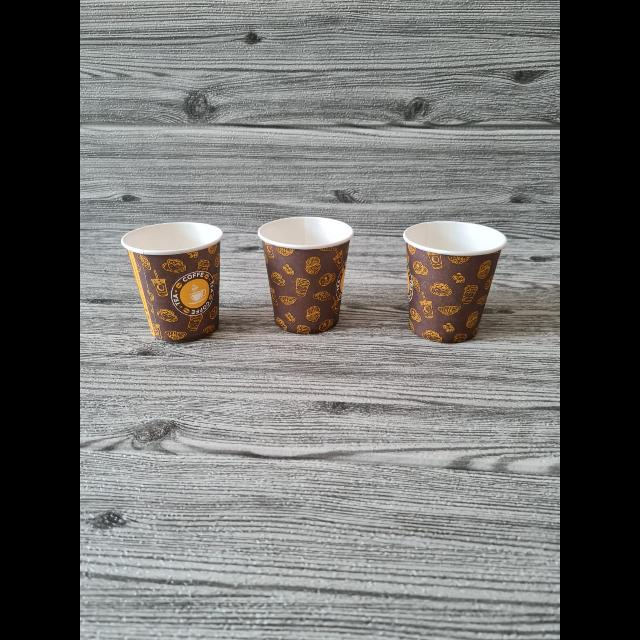trash: (118, 222, 226, 344), (404, 220, 508, 344), (256, 214, 360, 334)
